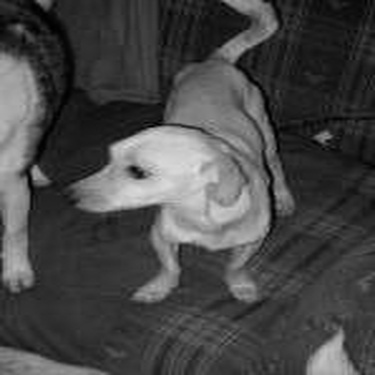dog: (59, 1, 299, 310), (6, 1, 76, 298), (296, 319, 362, 373)
